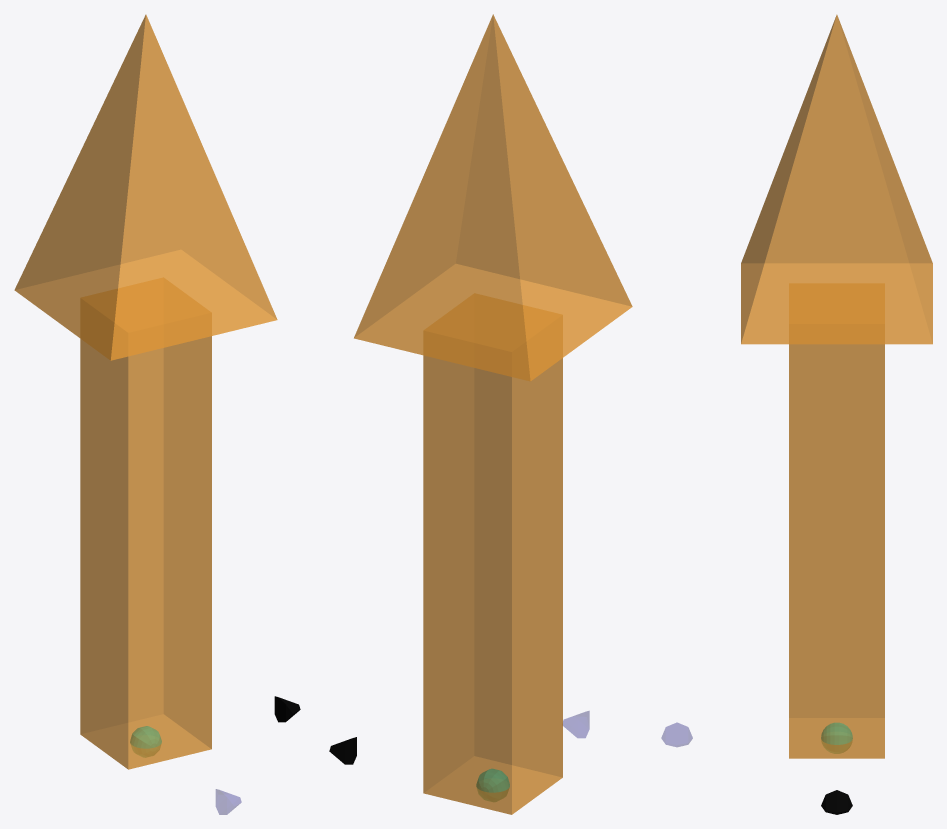
The model's file is arrow_test.obj.
The picture shows the model from 3 angles, left to right: view 1: azimuth 30°, elevation 25°; view 2: azimuth 150°, elevation 25°; view 3: azimuth 270°, elevation 25°; orthographic projection. The views are drawn at different scales.
Parts seen in each view (by area): view 1: arrowX, sphere1; view 2: arrowX, sphere1; view 3: arrowX, sphere1, sphere3, sphere2.
Boxes of the visible parts, x1=… form: arrowX: x1=14, y1=14, x2=277, y2=769; sphere1: x1=130, y1=726, x2=161, y2=756; arrowX: x1=354, y1=14, x2=632, y2=814; sphere1: x1=476, y1=769, x2=509, y2=801; arrowX: x1=741, y1=14, x2=932, y2=758; sphere1: x1=821, y1=723, x2=852, y2=753; sphere3: x1=821, y1=790, x2=852, y2=814; sphere2: x1=661, y1=722, x2=692, y2=746.
Bounding box in the file's own units: 1.7 × 5.09 × 1.7.
